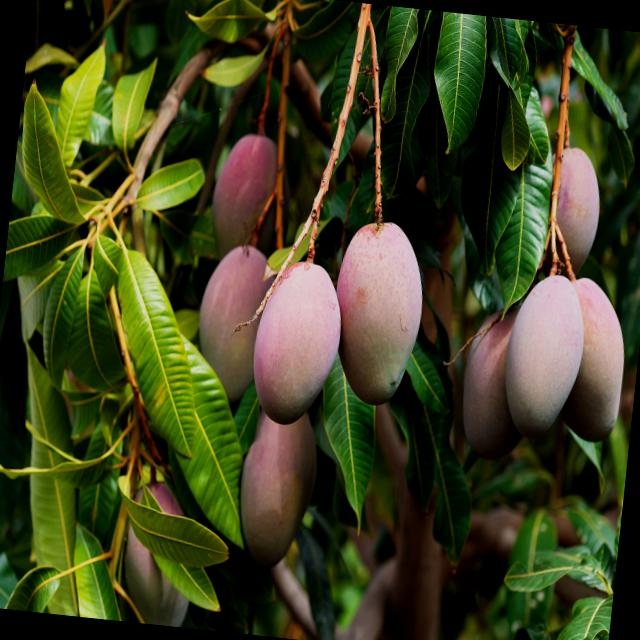mango: (324, 209, 430, 409), (244, 239, 352, 425), (499, 270, 592, 442), (189, 240, 280, 408), (232, 406, 318, 568), (550, 275, 634, 438), (455, 302, 538, 459), (206, 130, 293, 265), (540, 144, 606, 279)
